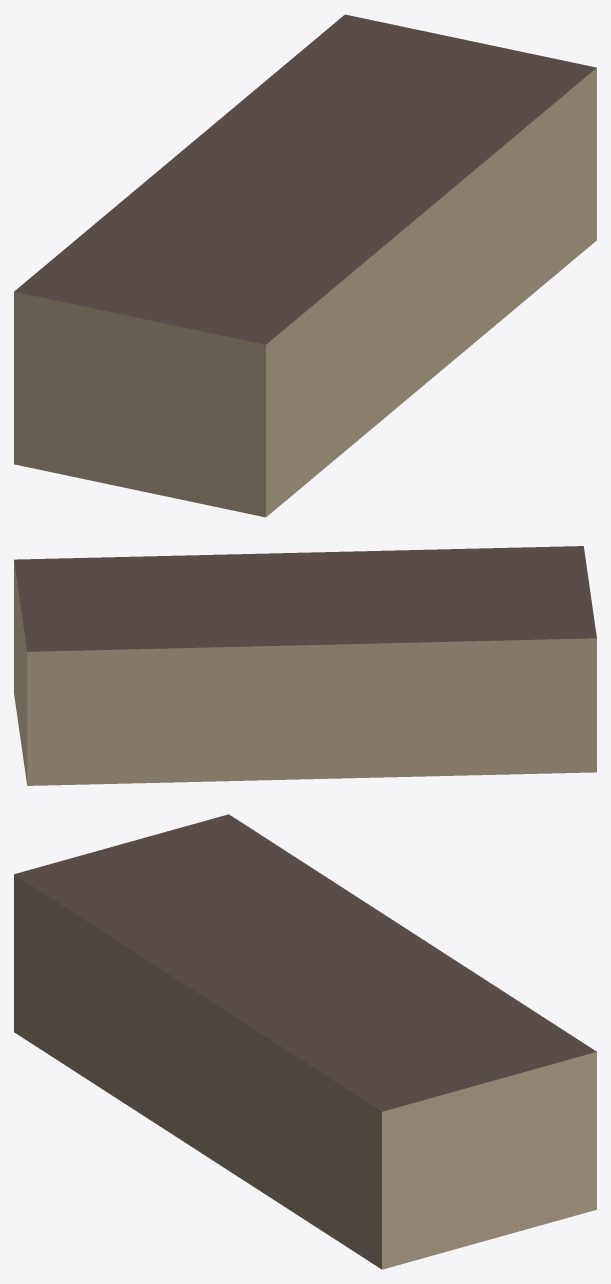
The picture shows the model from 3 angles, top to bottom: view 1: azimuth 30°, elevation 25°; view 2: azimuth 150°, elevation 25°; view 3: azimuth 270°, elevation 25°; orthographic projection. The views are drawn at different scales.
Parts seen in each view (by area): view 1: HP-w1170499699; view 2: HP-w1170499699; view 3: HP-w1170499699.
Boxes of the visible parts, bbox=[...] form: HP-w1170499699: bbox=[14, 14, 596, 517]; HP-w1170499699: bbox=[14, 546, 596, 785]; HP-w1170499699: bbox=[14, 814, 596, 1269].
Size of the model in its own units: 36.37 by 9 by 30.11.
